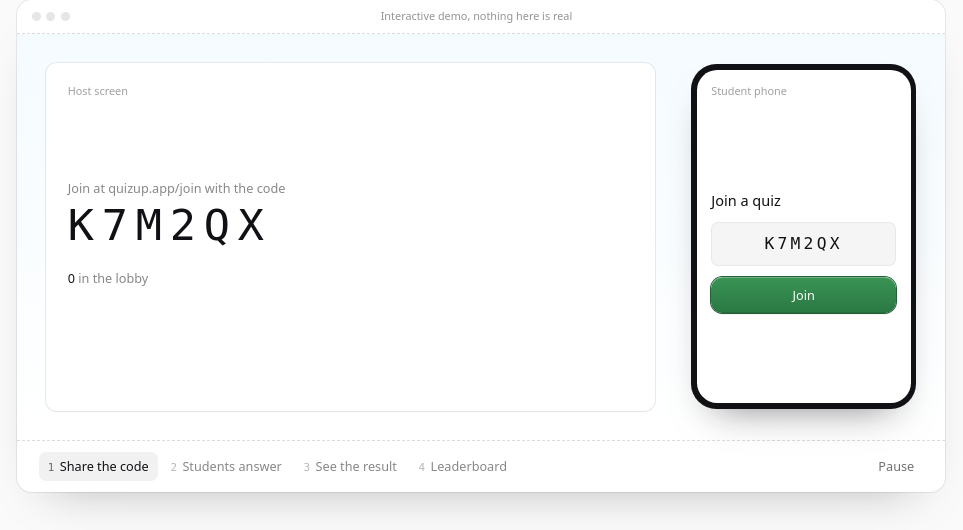
HeroDemo › shows a wrong answer as not quite
Click the button "Join".
click(804, 295)  # box left=711, top=276, right=896, bottom=313
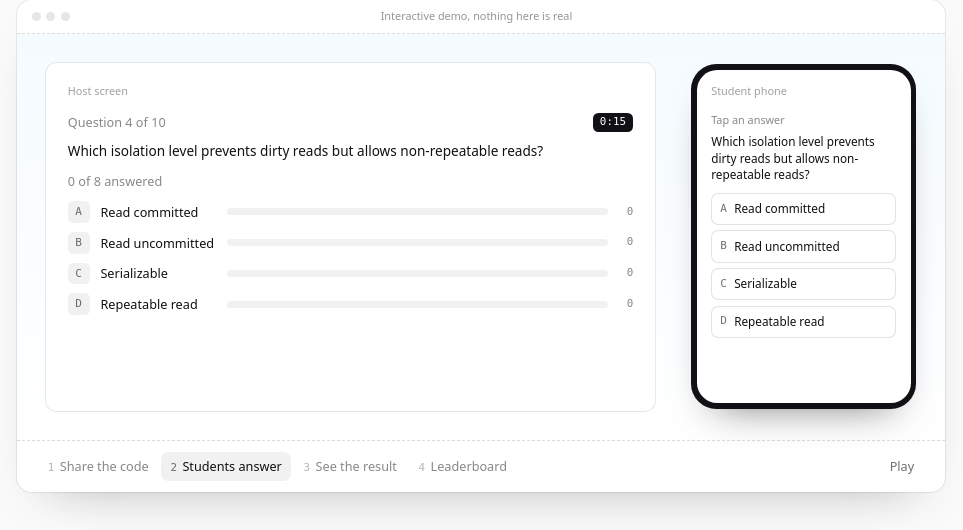
Click the button "C Serializable".
click(804, 284)  # box left=711, top=268, right=896, bottom=300
Wait 1200 ms
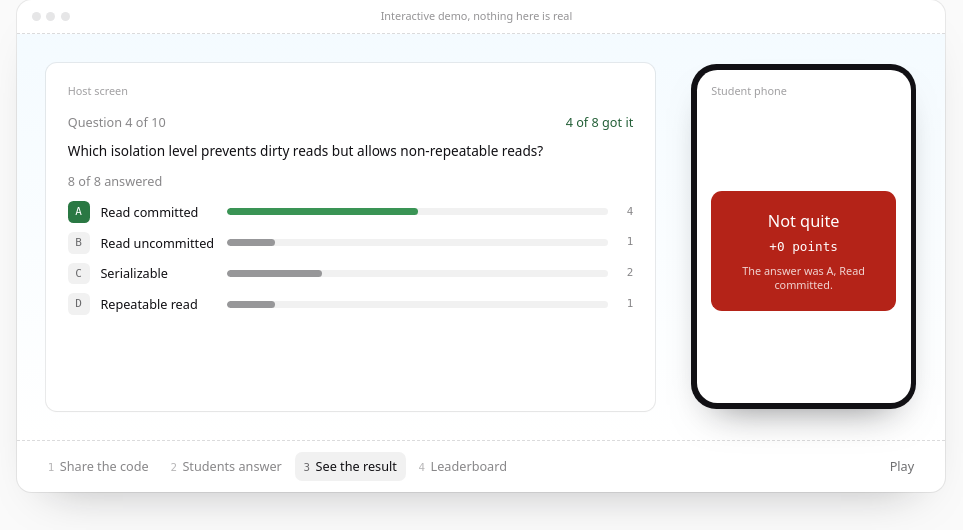
Expected: the message shows "Not quite", left=768, top=210, right=840, bottom=232
